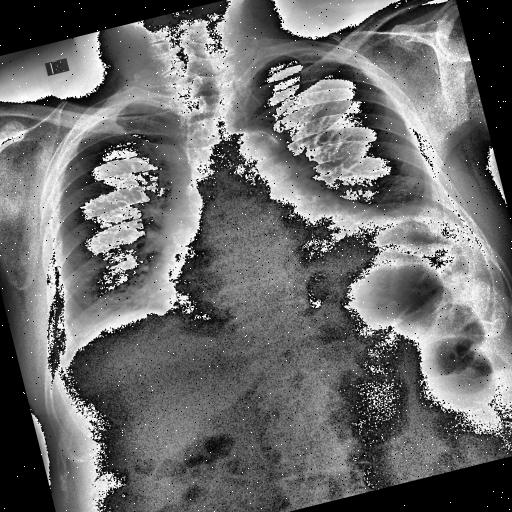0- Aortic enlargement: (220, 119, 300, 196), (220, 122, 300, 196), (223, 118, 295, 186)
10- Pleural effusion: (420, 172, 470, 235)
11- Pleural thickening: (420, 172, 470, 235)
3- Cardiomegaly: (144, 203, 408, 352), (148, 198, 409, 316), (148, 207, 400, 329)
9- Other lesion: (298, 188, 486, 278), (355, 171, 470, 260)
